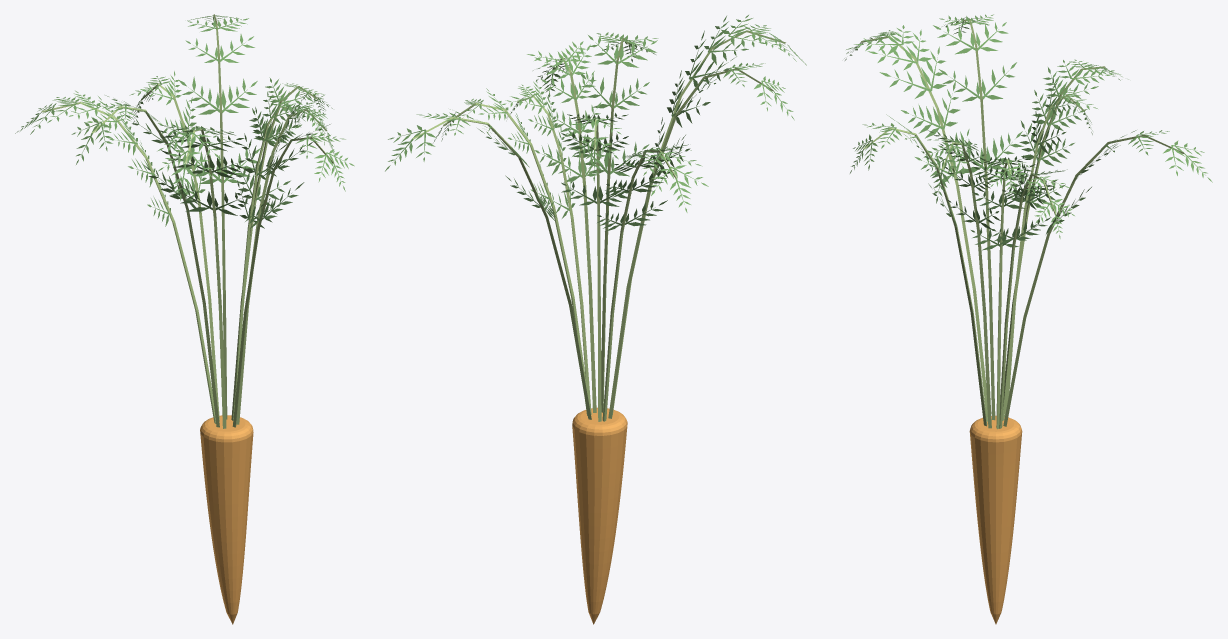
Rendered from carrot_harvest_v01.glb.
3 views of the same model, side by side, from view 1: azimuth 30°, elevation 25°; view 2: azimuth 150°, elevation 25°; view 3: azimuth 270°, elevation 25° (orthographic). The views are drawn at different scales.
Visible parts, largest first — view 1: plant; view 2: plant; view 3: plant.
Boxes of the visible parts, x1,y1,x2,y2 form: plant: [15, 14, 354, 624]; plant: [385, 15, 806, 624]; plant: [844, 14, 1212, 624].
Bounding box in the file's own units: 0.2433 × 0.4324 × 0.2691.
Materials: 1 (1 with a texture image).
